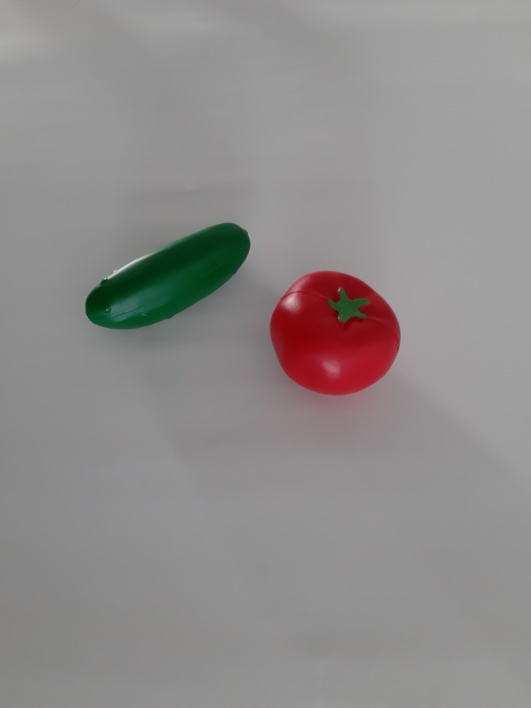cucumber: (70, 211, 259, 336)
tomato: (261, 256, 423, 410)
